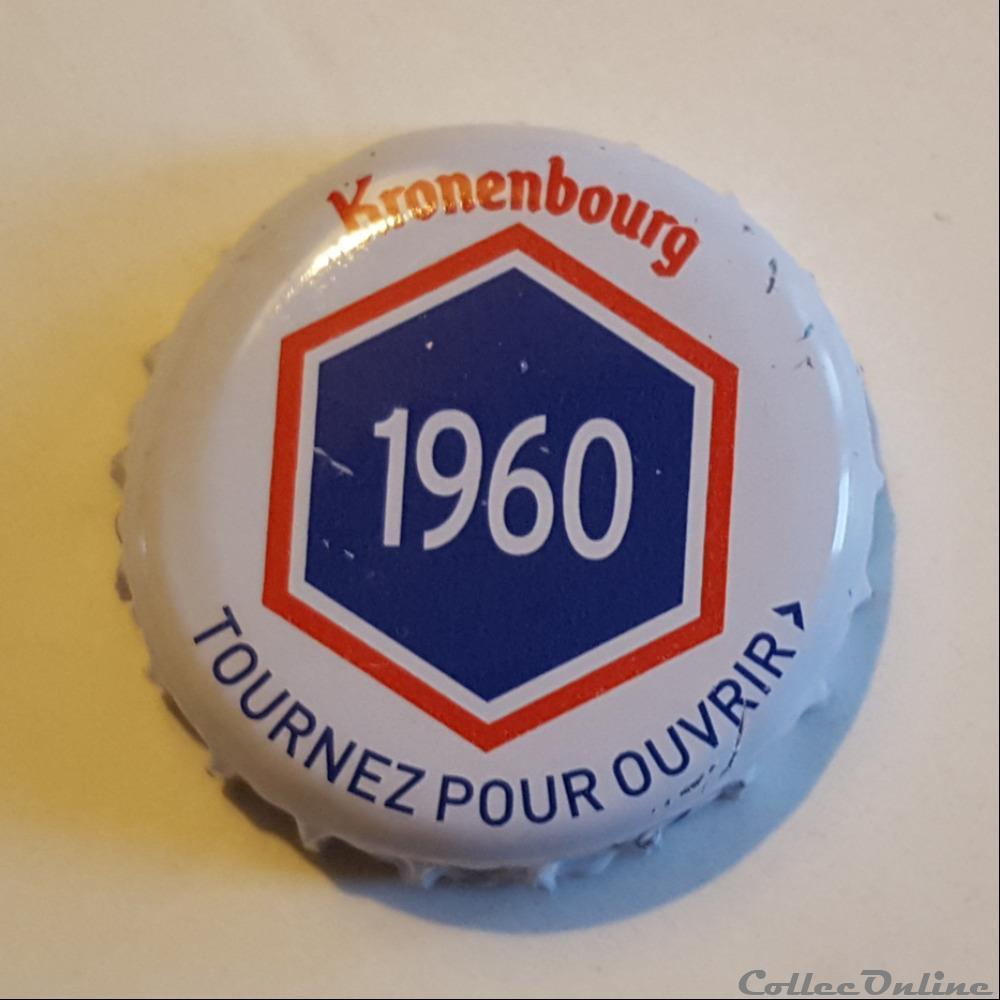metal: (118, 126, 883, 878)
